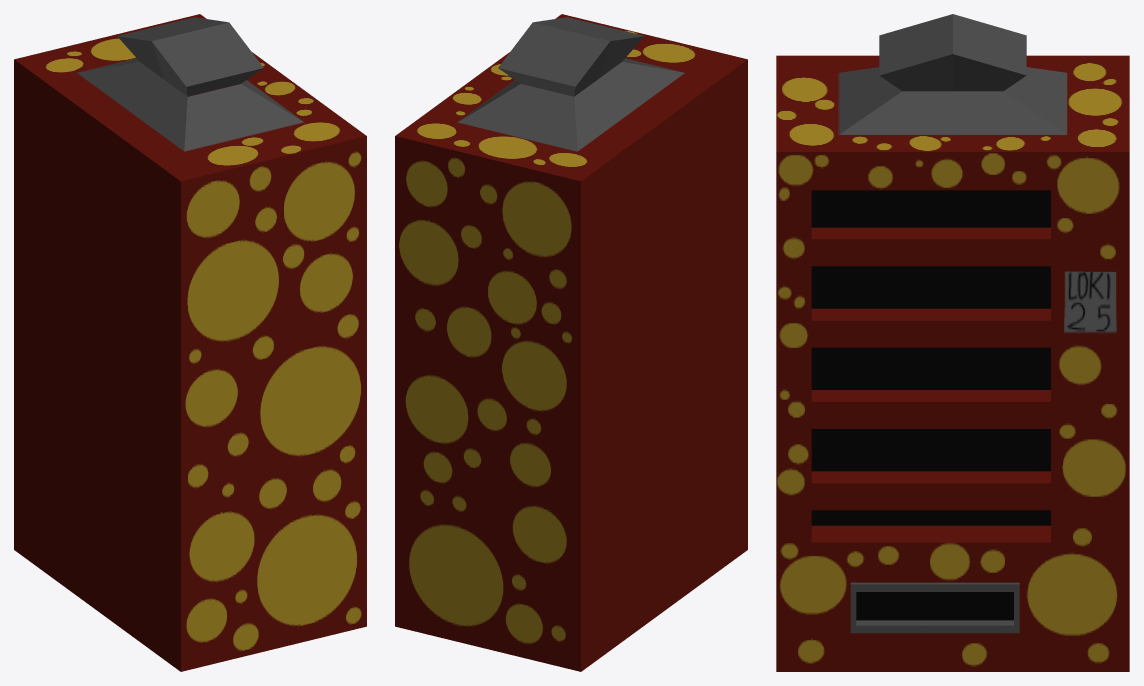
File: vendingmachine.fbx
The picture shows the model from 3 angles, left to right: view 1: azimuth 30°, elevation 25°; view 2: azimuth 150°, elevation 25°; view 3: azimuth 270°, elevation 25°; orthographic projection. The views are drawn at different scales.
Parts seen in each view (by area): view 1: Cube; view 2: Cube; view 3: Cube.
Boxes of the visible parts, x1,y1,x2,y2 form: Cube: [14, 14, 366, 671]; Cube: [395, 14, 747, 671]; Cube: [776, 14, 1129, 671].
Size of the model in its own units: 251 by 705 by 383.
